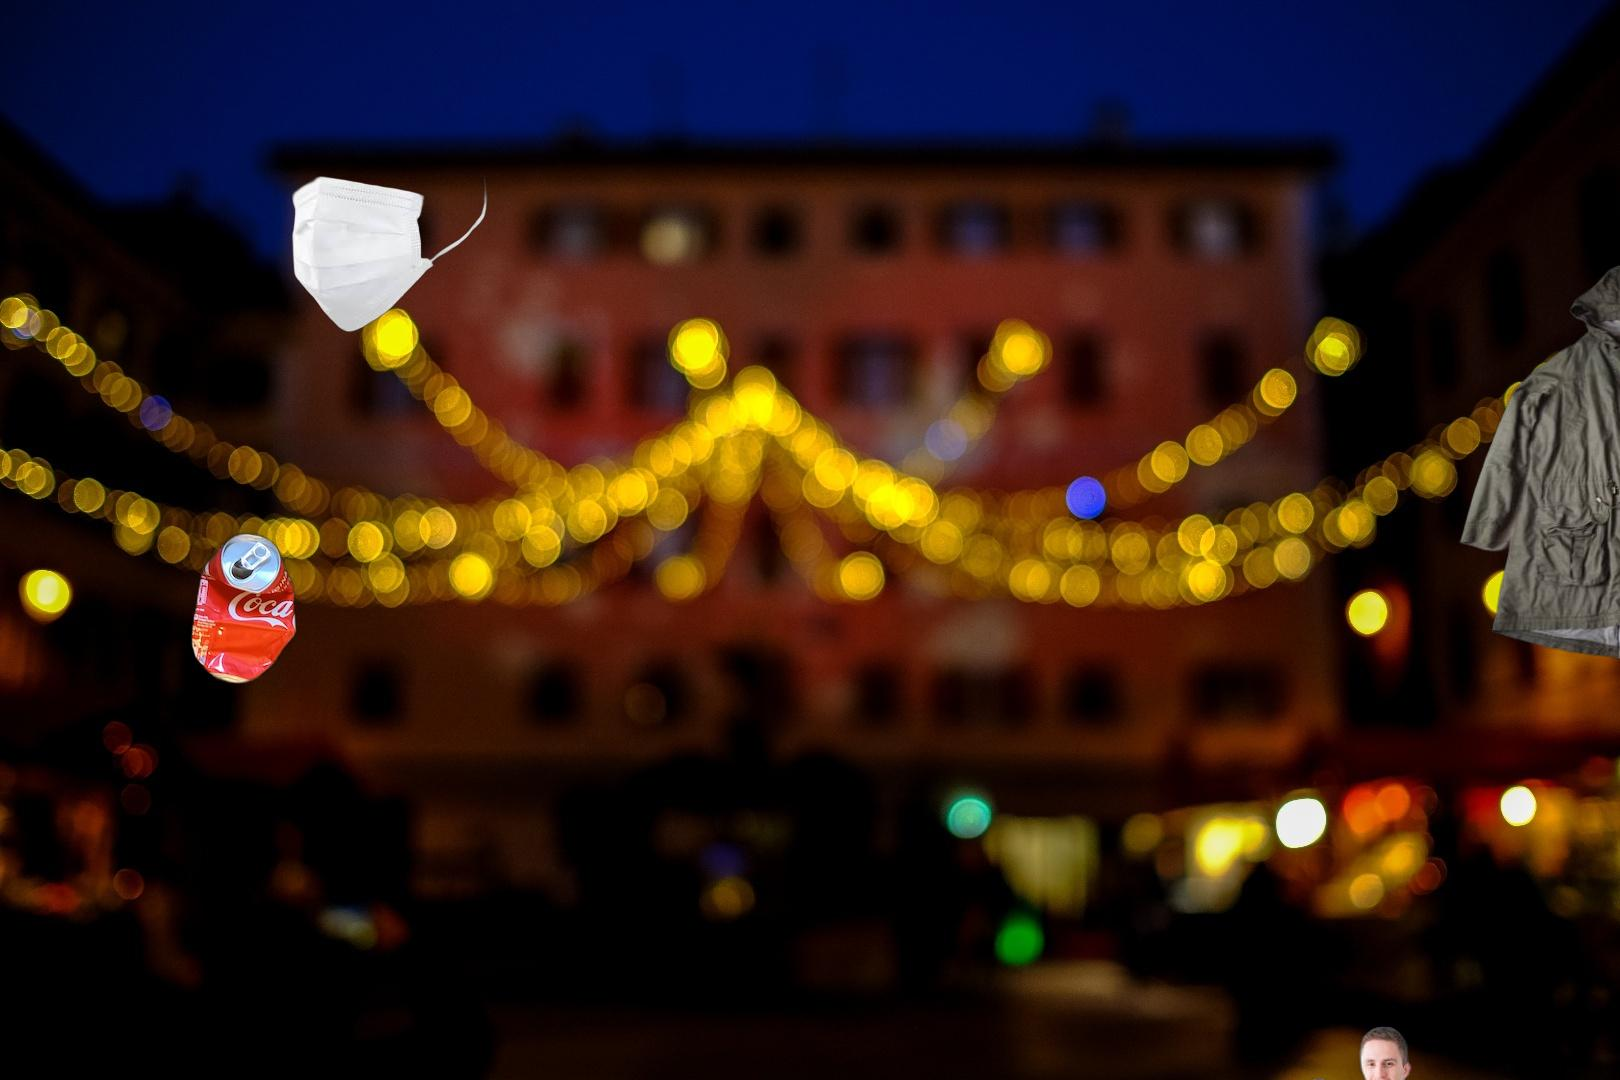clothes: (1457, 262, 1620, 663)
metal-cans: (187, 527, 301, 689)
trash: (289, 174, 491, 335)
trashbox-cardboard: (1238, 1023, 1468, 1080)
